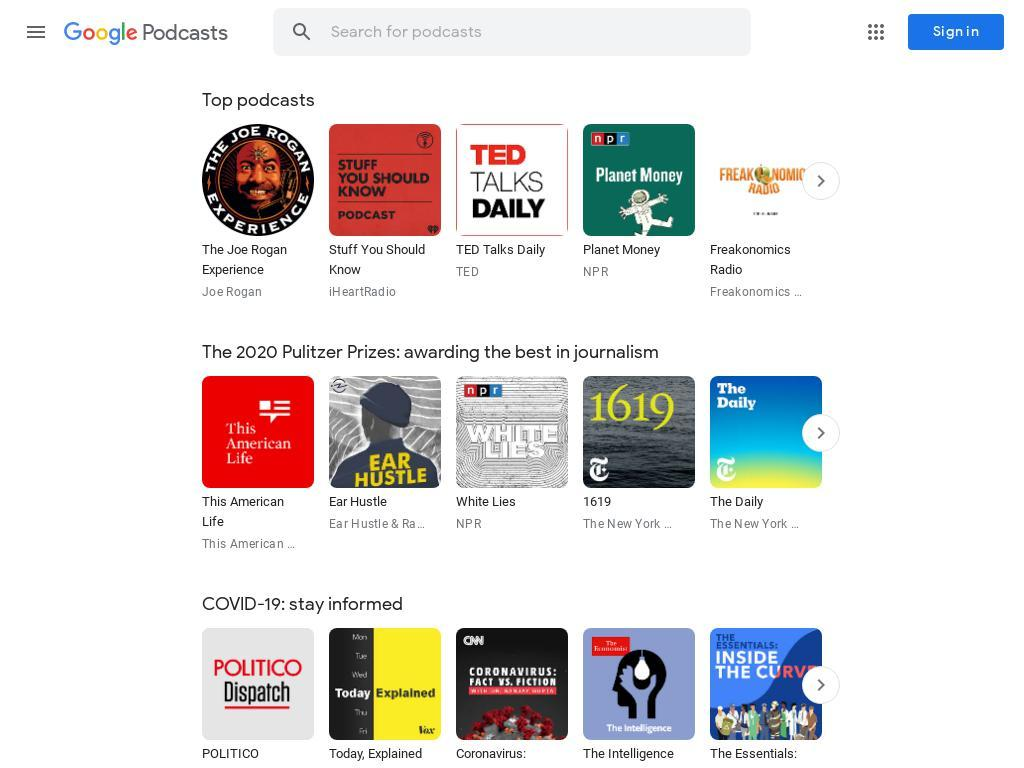button: (202, 124, 314, 300), (329, 124, 441, 300), (710, 124, 822, 300), (202, 376, 314, 552), (456, 124, 568, 280), (583, 124, 695, 280), (837, 124, 949, 280), (329, 376, 441, 532), (456, 376, 568, 532), (583, 376, 695, 532), (710, 376, 822, 532), (837, 376, 949, 532), (202, 628, 314, 768), (329, 628, 441, 768), (456, 628, 568, 768), (583, 628, 695, 768), (710, 628, 822, 768), (837, 628, 949, 768), (964, 376, 1024, 552), (964, 124, 1024, 280), (964, 628, 1024, 768), (64, 22, 228, 46), (908, 14, 1004, 50), (274, 9, 330, 55), (12, 8, 60, 56), (856, 12, 896, 52)
field: (330, 9, 701, 55)
image: (202, 124, 314, 236), (329, 124, 441, 236), (456, 124, 568, 236), (583, 124, 695, 236), (710, 124, 822, 236), (837, 124, 949, 236), (202, 376, 314, 488), (329, 376, 441, 488), (456, 376, 568, 488), (583, 376, 695, 488), (710, 376, 822, 488), (837, 376, 949, 488), (202, 628, 314, 740), (329, 628, 441, 740), (456, 628, 568, 740), (583, 628, 695, 740), (710, 628, 822, 740), (837, 628, 949, 740), (964, 124, 1024, 236), (964, 376, 1024, 488), (964, 628, 1024, 740), (24, 20, 48, 44), (290, 20, 314, 44), (864, 20, 888, 44)
text: (202, 88, 822, 112), (202, 340, 822, 364), (202, 592, 822, 616), (202, 236, 298, 280), (329, 236, 425, 280), (710, 236, 806, 280), (202, 488, 298, 532), (202, 740, 298, 768), (456, 740, 552, 768), (710, 740, 806, 768), (837, 740, 933, 768), (964, 488, 1024, 532), (456, 236, 552, 260), (583, 236, 679, 260), (837, 236, 933, 260), (329, 488, 425, 512), (456, 488, 552, 512), (583, 488, 679, 512), (710, 488, 806, 512), (837, 488, 933, 512), (329, 740, 425, 764), (583, 740, 679, 764), (138, 20, 228, 45), (964, 740, 1024, 768), (202, 284, 298, 300), (329, 284, 425, 300), (456, 264, 552, 280), (583, 264, 679, 280), (710, 284, 806, 300), (837, 264, 933, 280), (202, 536, 298, 552), (329, 516, 425, 532), (456, 516, 552, 532), (583, 516, 679, 532), (710, 516, 806, 532), (837, 516, 933, 532), (964, 236, 1024, 260), (964, 264, 1024, 280), (964, 536, 1024, 552)
